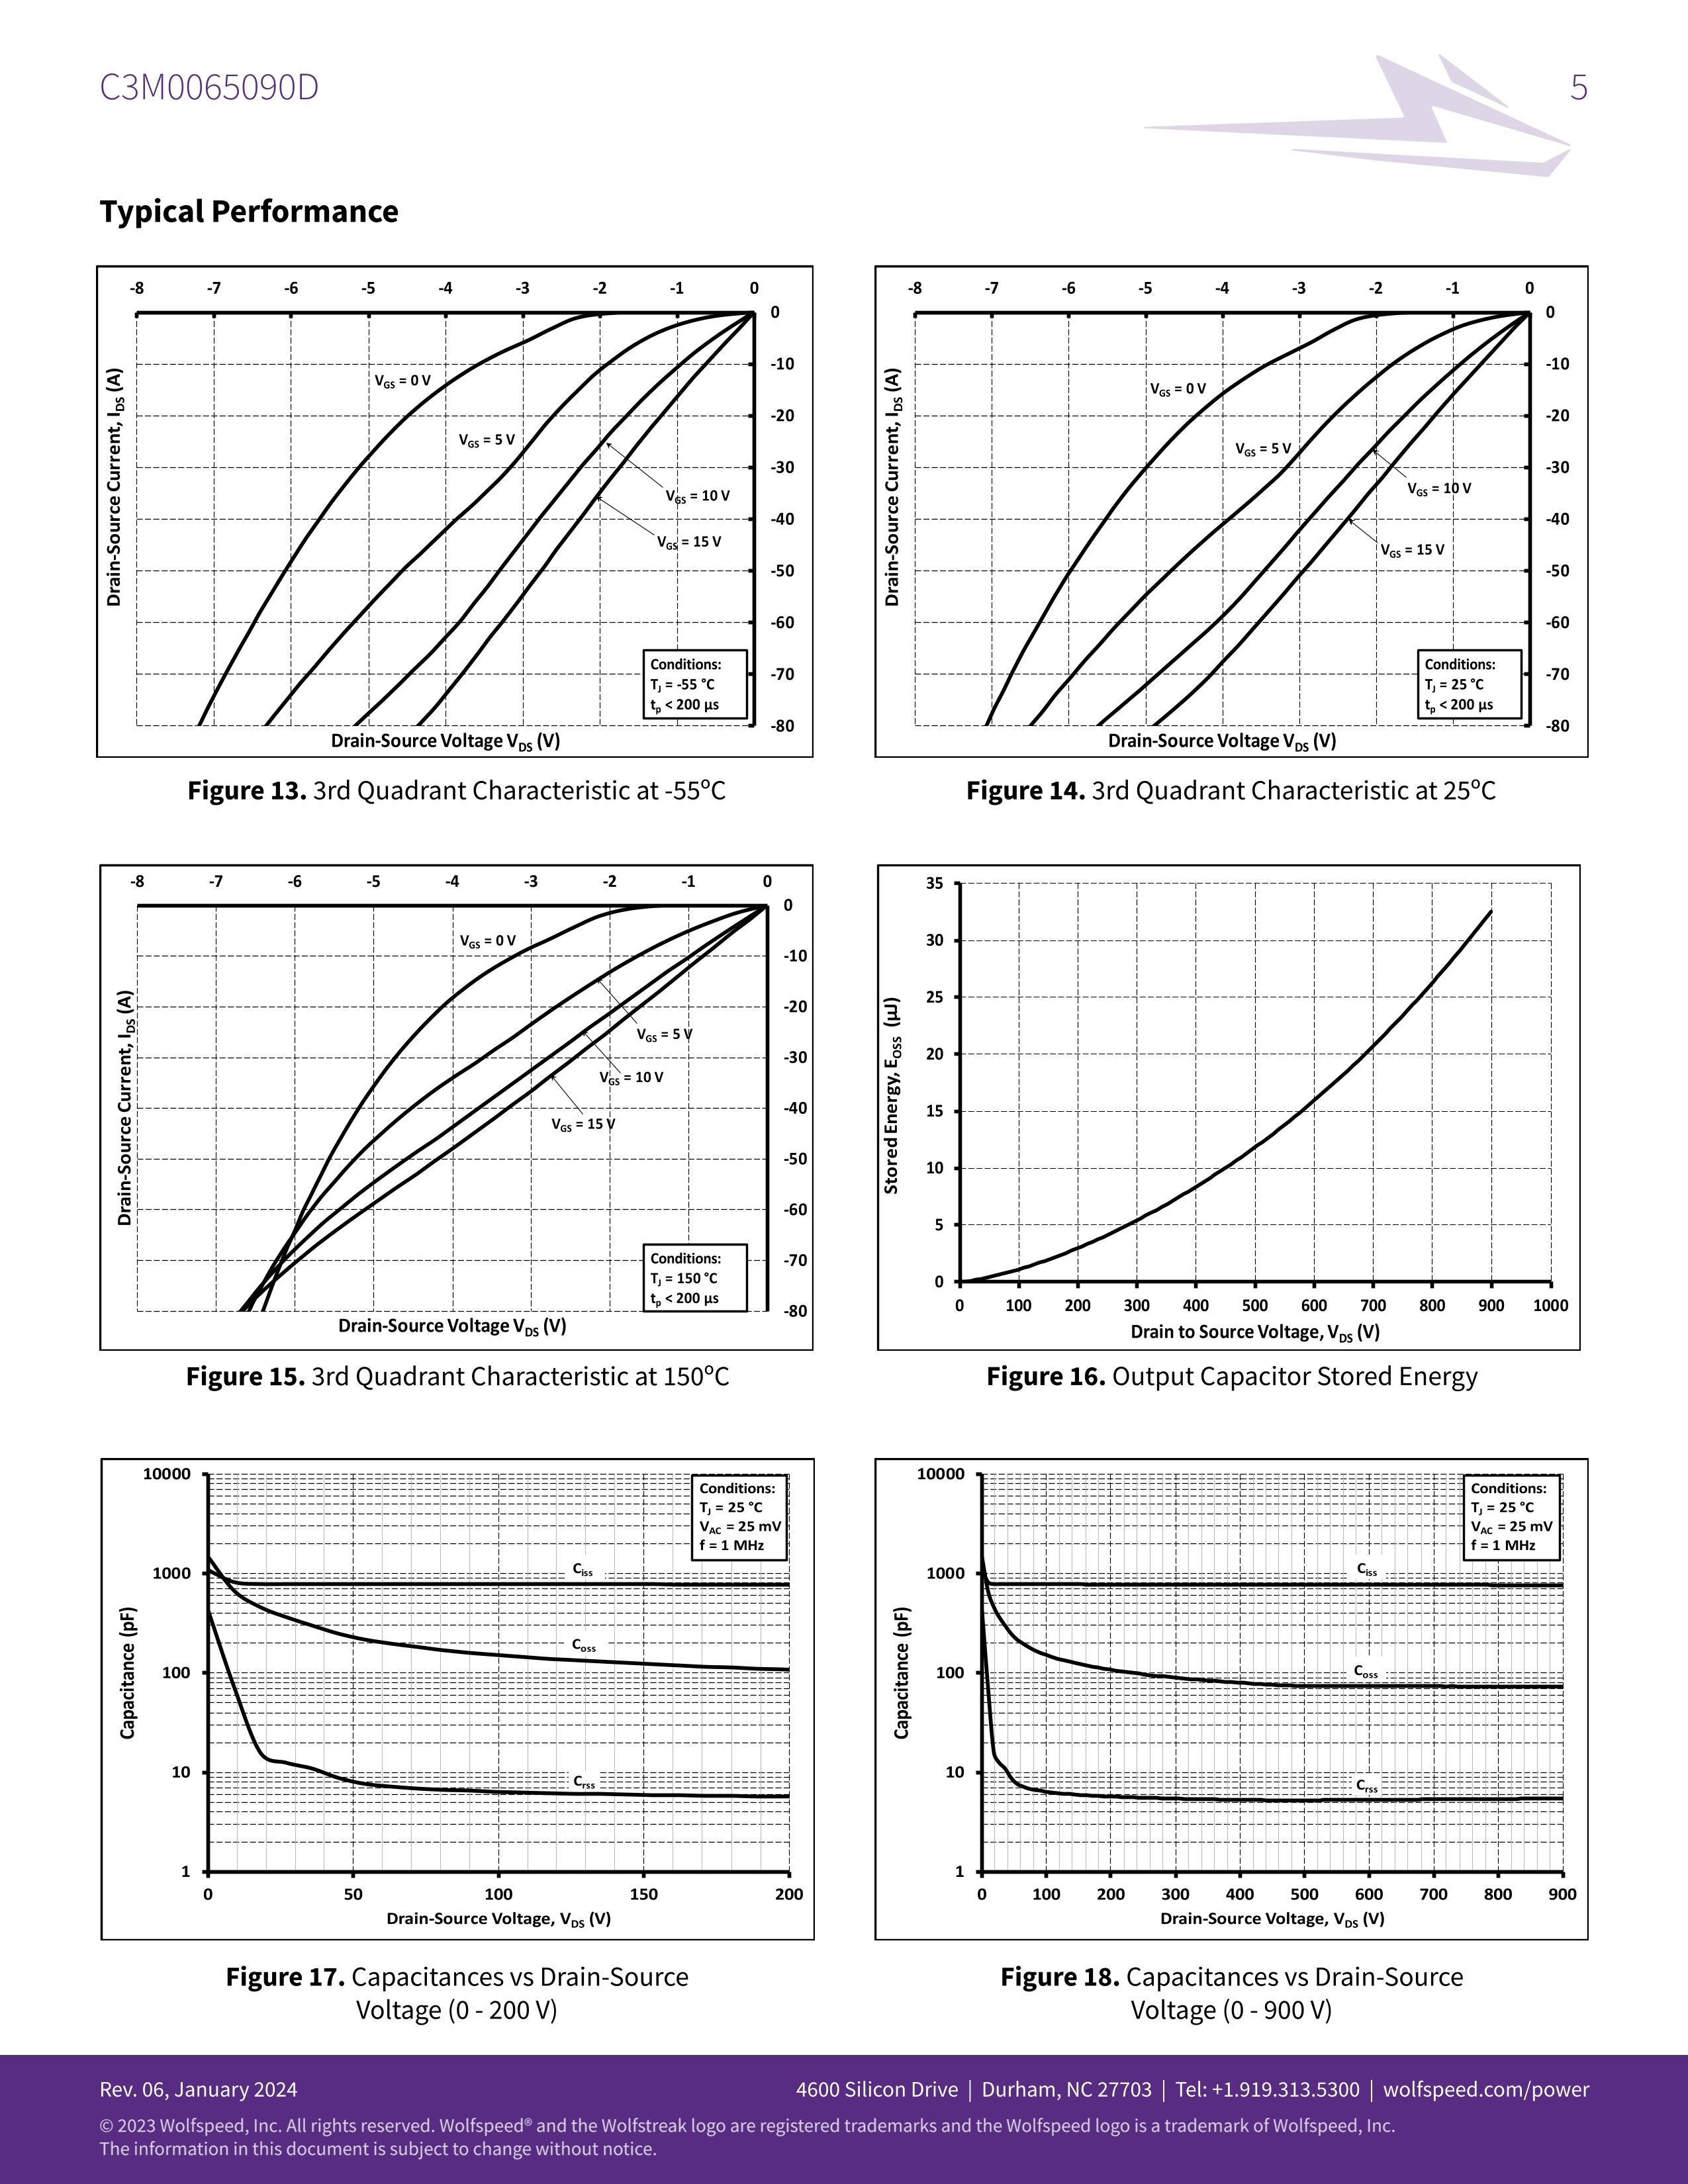diagram: (89, 1445, 826, 2051), (865, 1450, 1596, 2042), (856, 253, 1612, 817), (862, 849, 1599, 1423), (87, 255, 830, 824), (89, 853, 826, 1420)
